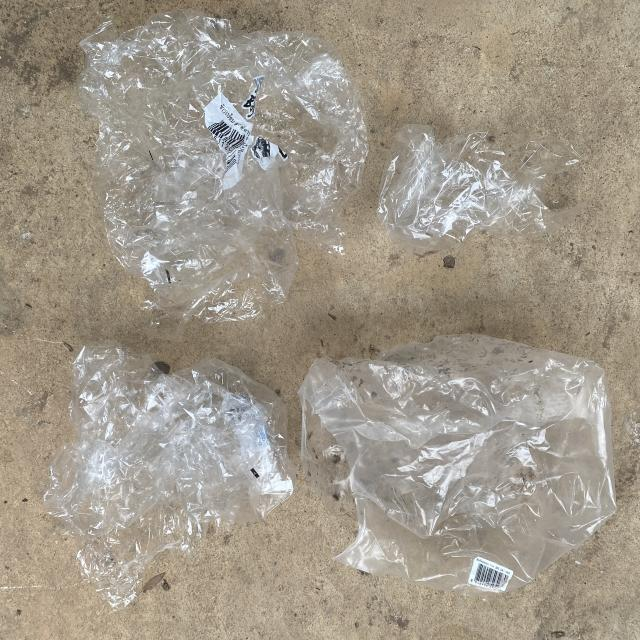Single-layer Plastic: (78, 10, 368, 339), (299, 334, 616, 595), (45, 342, 295, 608), (378, 125, 585, 255)
